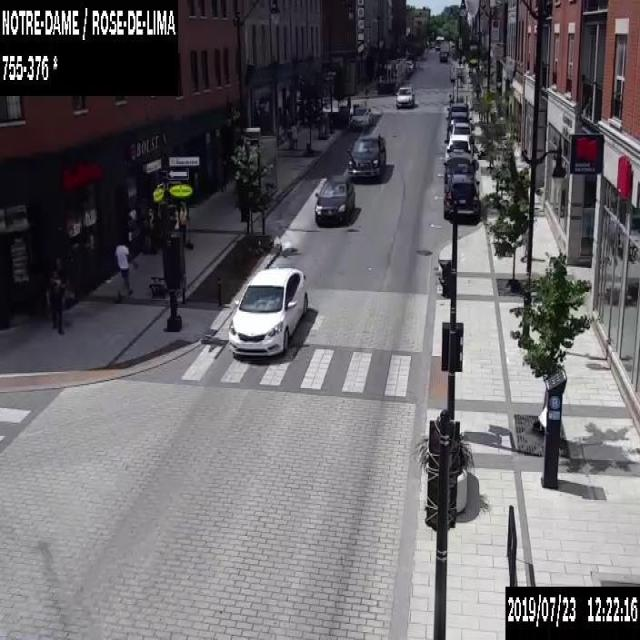pedestrian: (114, 236, 138, 298), (49, 256, 66, 334), (289, 119, 297, 149)
vehicle: (226, 268, 308, 357), (314, 176, 354, 224), (347, 133, 385, 181), (442, 173, 479, 222), (444, 111, 471, 143), (442, 154, 475, 178), (443, 134, 472, 158), (446, 100, 469, 122), (395, 84, 414, 108), (450, 120, 470, 138), (349, 107, 369, 125), (434, 36, 444, 49), (439, 49, 447, 62), (405, 60, 413, 70)
